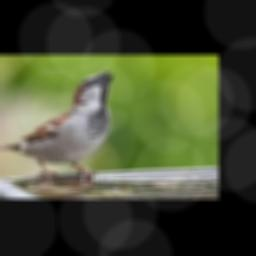Sparrow: (0, 71, 113, 182)
